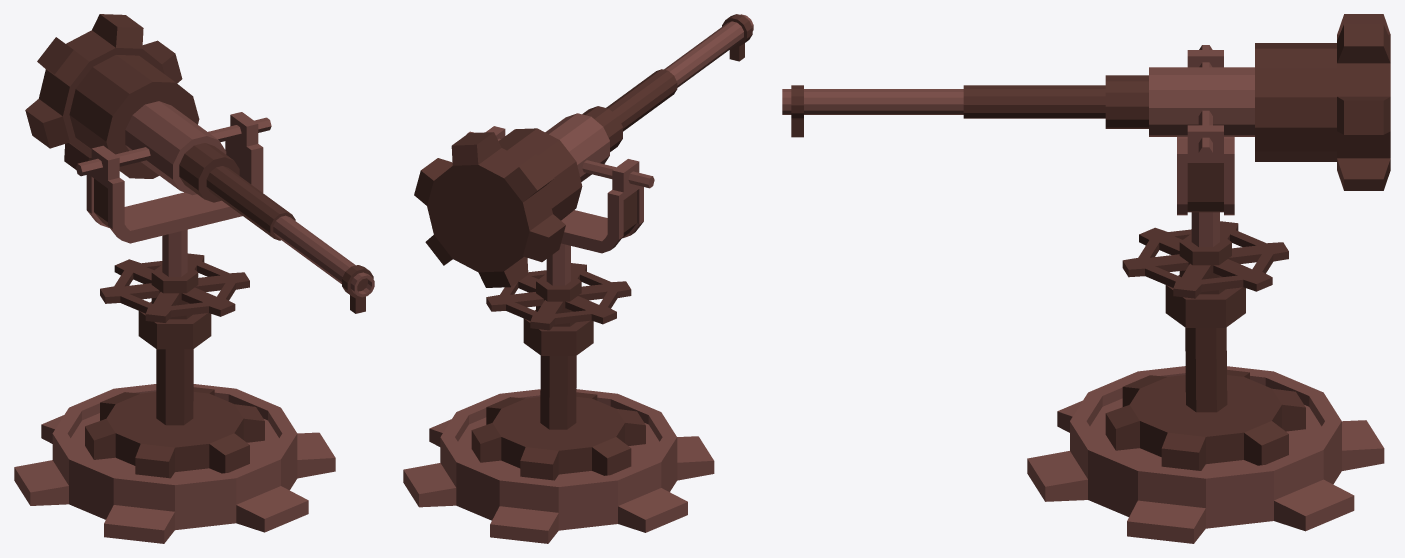
The model's file is t_Gun_2.glb.
3 renders of one model, left to right at view 1: azimuth 30°, elevation 25°; view 2: azimuth 150°, elevation 25°; view 3: azimuth 270°, elevation 25°, orthographic. The views are drawn at different scales.
Parts seen in each view (by area): view 1: Gun_2_Base_Cylinder.116, Gun_2_Gun_Cylinder.196, Gun_2_Mid_Cylinder.195; view 2: Gun_2_Base_Cylinder.116, Gun_2_Gun_Cylinder.196, Gun_2_Mid_Cylinder.195; view 3: Gun_2_Base_Cylinder.116, Gun_2_Gun_Cylinder.196, Gun_2_Mid_Cylinder.195.
Boxes of the visible parts, x1,y1,x2,y2 form: Gun_2_Base_Cylinder.116: (14,384,335,543); Gun_2_Gun_Cylinder.196: (25,14,374,313); Gun_2_Mid_Cylinder.195: (76,112,271,425); Gun_2_Base_Cylinder.116: (403,389,714,543); Gun_2_Gun_Cylinder.196: (414,14,753,287); Gun_2_Mid_Cylinder.195: (466,126,654,429); Gun_2_Base_Cylinder.116: (1027,366,1384,543); Gun_2_Gun_Cylinder.196: (782,14,1390,190); Gun_2_Mid_Cylinder.195: (1122,45,1288,412).
Bounding box in the file's own units: 1.38 × 1.91 × 2.35.
